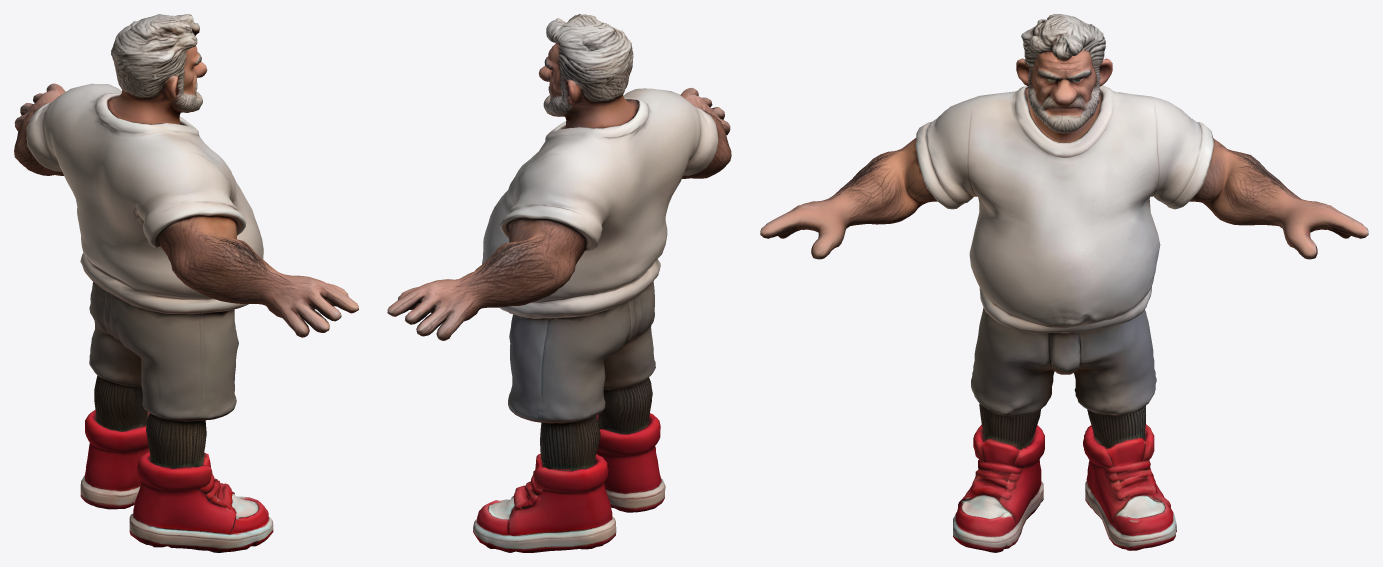
The picture shows the model from 3 angles, left to right: view 1: azimuth 30°, elevation 25°; view 2: azimuth 150°, elevation 25°; view 3: azimuth 270°, elevation 25°; orthographic projection.
Parts seen in each view (by area): view 1: tripo_node_7a2b4c8b; view 2: tripo_node_7a2b4c8b; view 3: tripo_node_7a2b4c8b.
Boxes of the visible parts, <box> form: tripo_node_7a2b4c8b: <box>14,14,358,552</box>; tripo_node_7a2b4c8b: <box>387,14,731,552</box>; tripo_node_7a2b4c8b: <box>760,14,1368,552</box>.
Bounding box in the file's own units: 31.31 × 91.19 × 100.
1 material, 1 textured.
